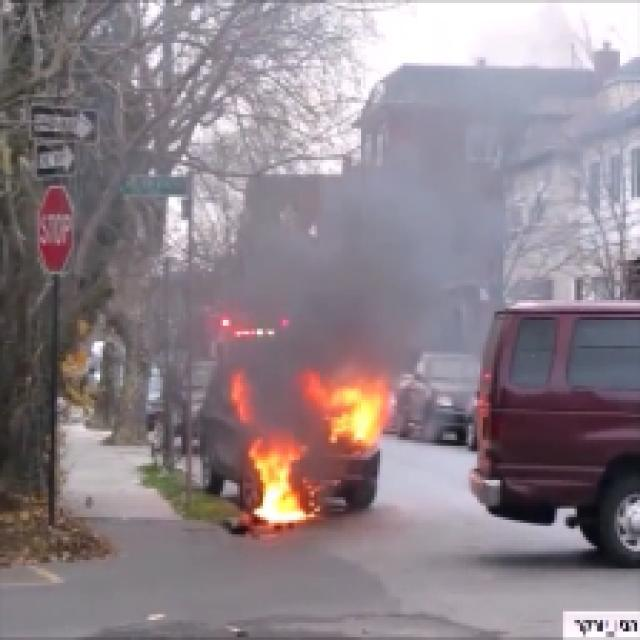Fire: (235, 374, 380, 522)
Smoke: (252, 152, 472, 372)
